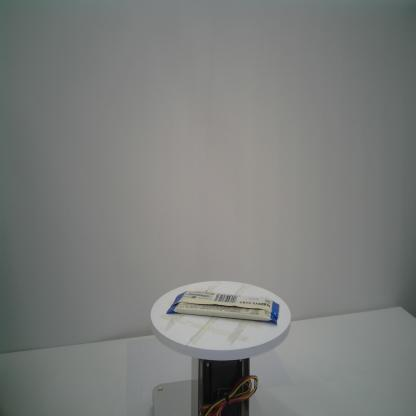Chocolate: (166, 289, 280, 326)
